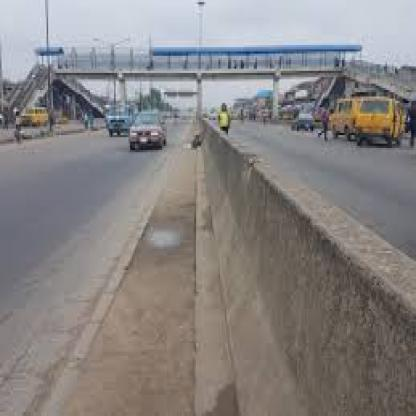car: (126, 107, 169, 156)
